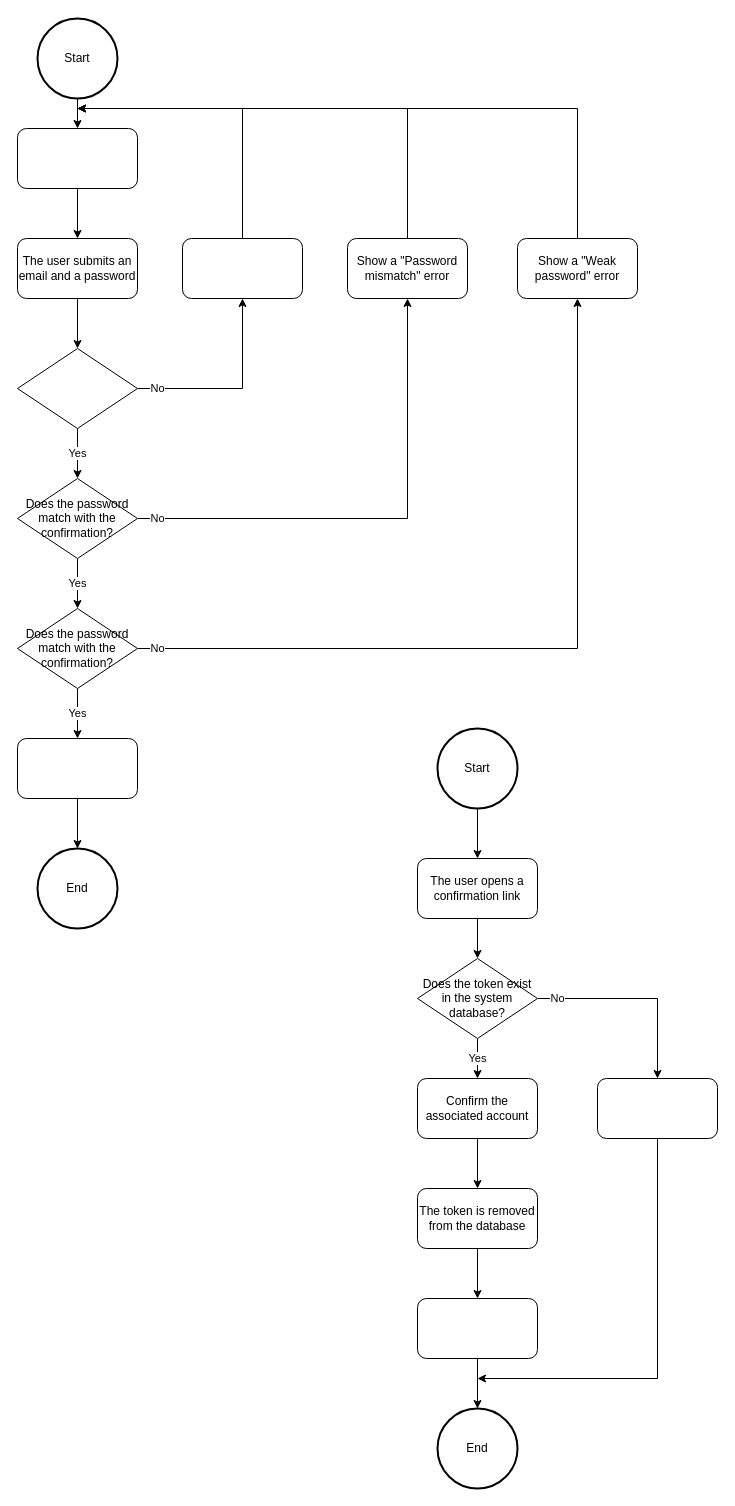
This 735x1506 diagram has some shape labels left out. Here are the shapes that lost their labels. From the top down, the centre of each, then its label:
point 77,158: The signup page is shown to the user
point 242,268: Show an "Already registered" error
point 77,388: Is the email already in the database?
point 77,768: Send a confirmation code to the user
point 657,1108: Show a "Token expired" error
point 477,1328: Show an "Account activated" message
